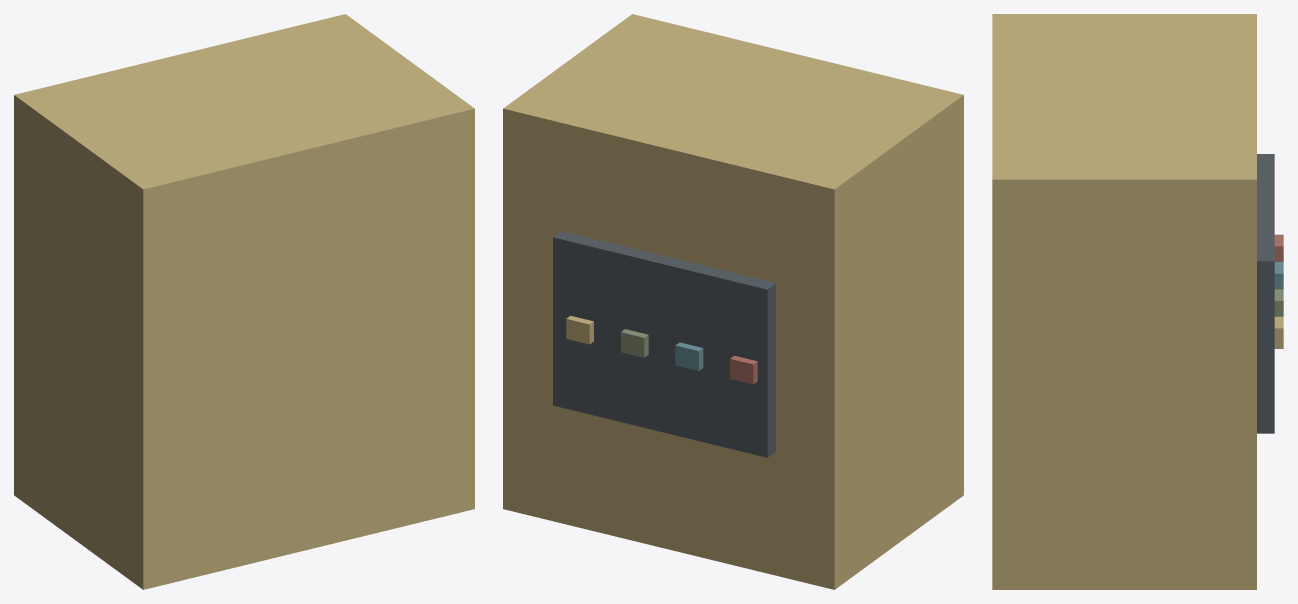
The model's file is iz2_power_cable_reel_heavy.glb.
The picture shows the model from 3 angles, left to right: view 1: azimuth 30°, elevation 25°; view 2: azimuth 150°, elevation 25°; view 3: azimuth 270°, elevation 25°; orthographic projection. The views are drawn at different scales.
Visible parts, largest first — view 1: body; view 2: body; view 3: body.
Part boxes in pixels (x1=…): body: x1=14, y1=14, x2=474, y2=589; body: x1=503, y1=14, x2=963, y2=589; body: x1=992, y1=14, x2=1283, y2=589.
Bounding box in the file's own units: 0.862 × 0.995 × 0.6402.
